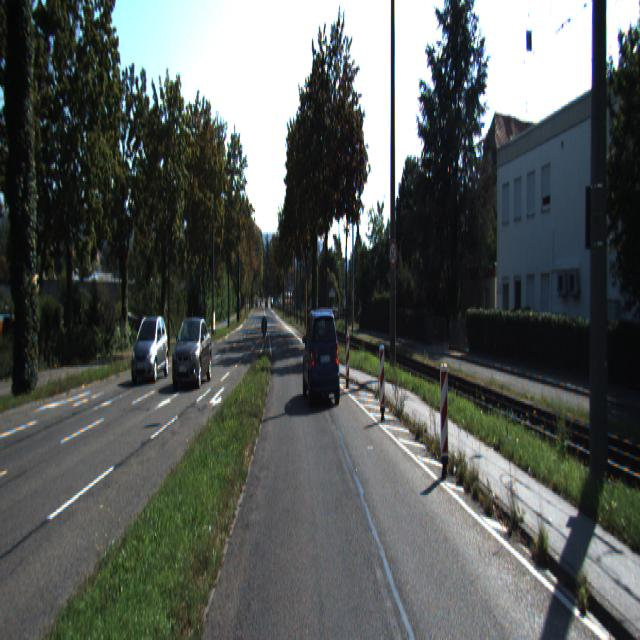Car: (303, 309, 342, 413), (171, 316, 212, 394), (131, 315, 169, 385)
